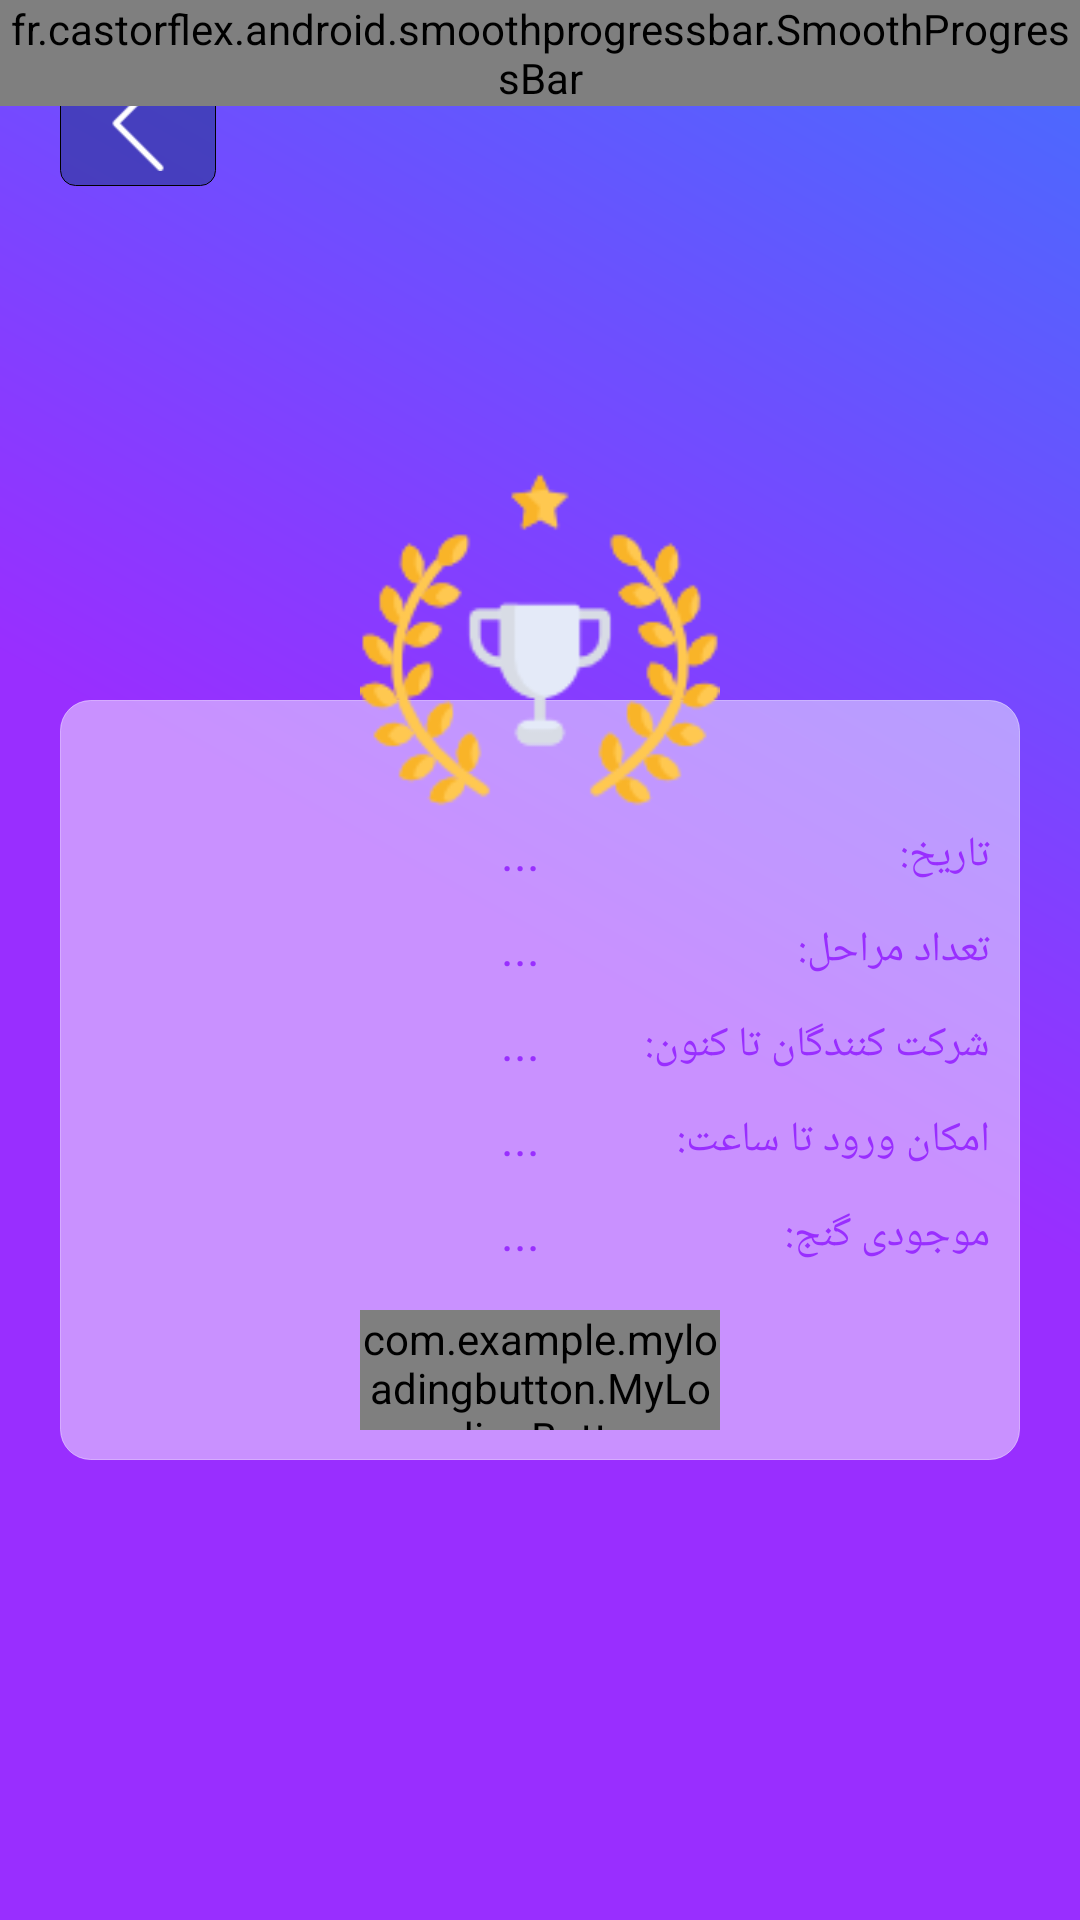

Named icons in this screenshot (1080px×1920px) and their centers, (x=x, y=y):
backicon: (x=138, y=123)
